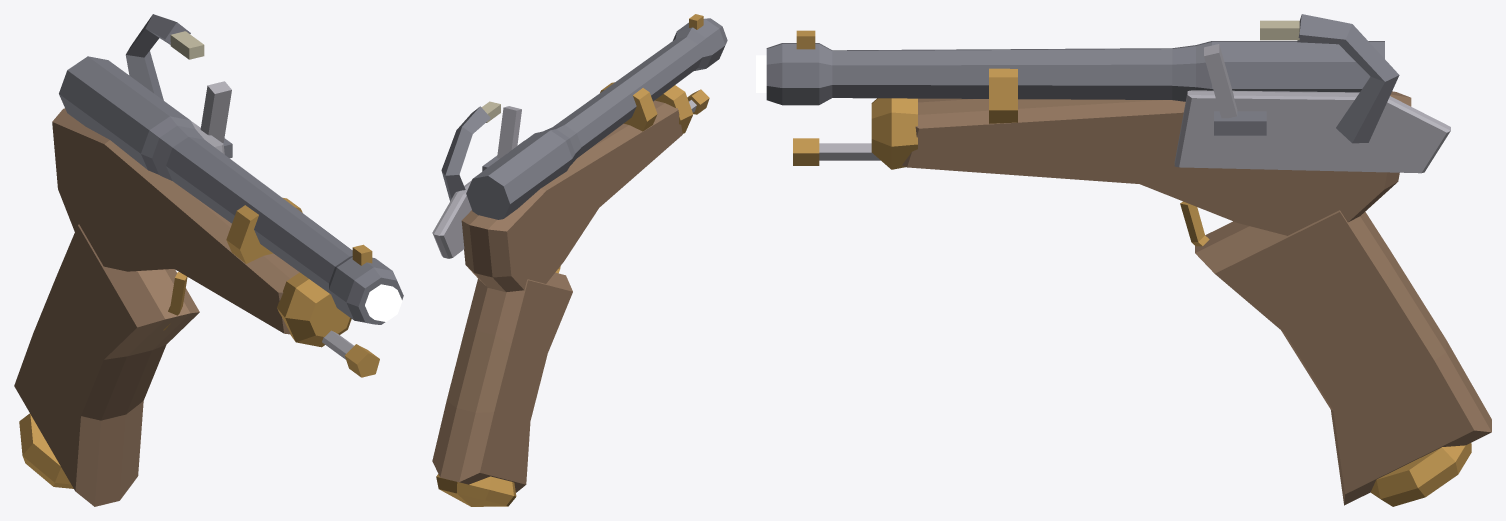
File: pistol.glb
The picture shows the model from 3 angles, left to right: view 1: azimuth 30°, elevation 25°; view 2: azimuth 150°, elevation 25°; view 3: azimuth 270°, elevation 25°; orthographic projection. The views are drawn at different scales.
Parts seen in each view (by area): view 1: pistol; view 2: pistol; view 3: pistol.
Boxes of the visible parts, x1,y1,x2,y2 form: pistol: (14,14,403,506); pistol: (432,14,727,506); pistol: (756,14,1491,506).
Size of the model in its own units: 0.106 by 0.4282 by 0.5592.
